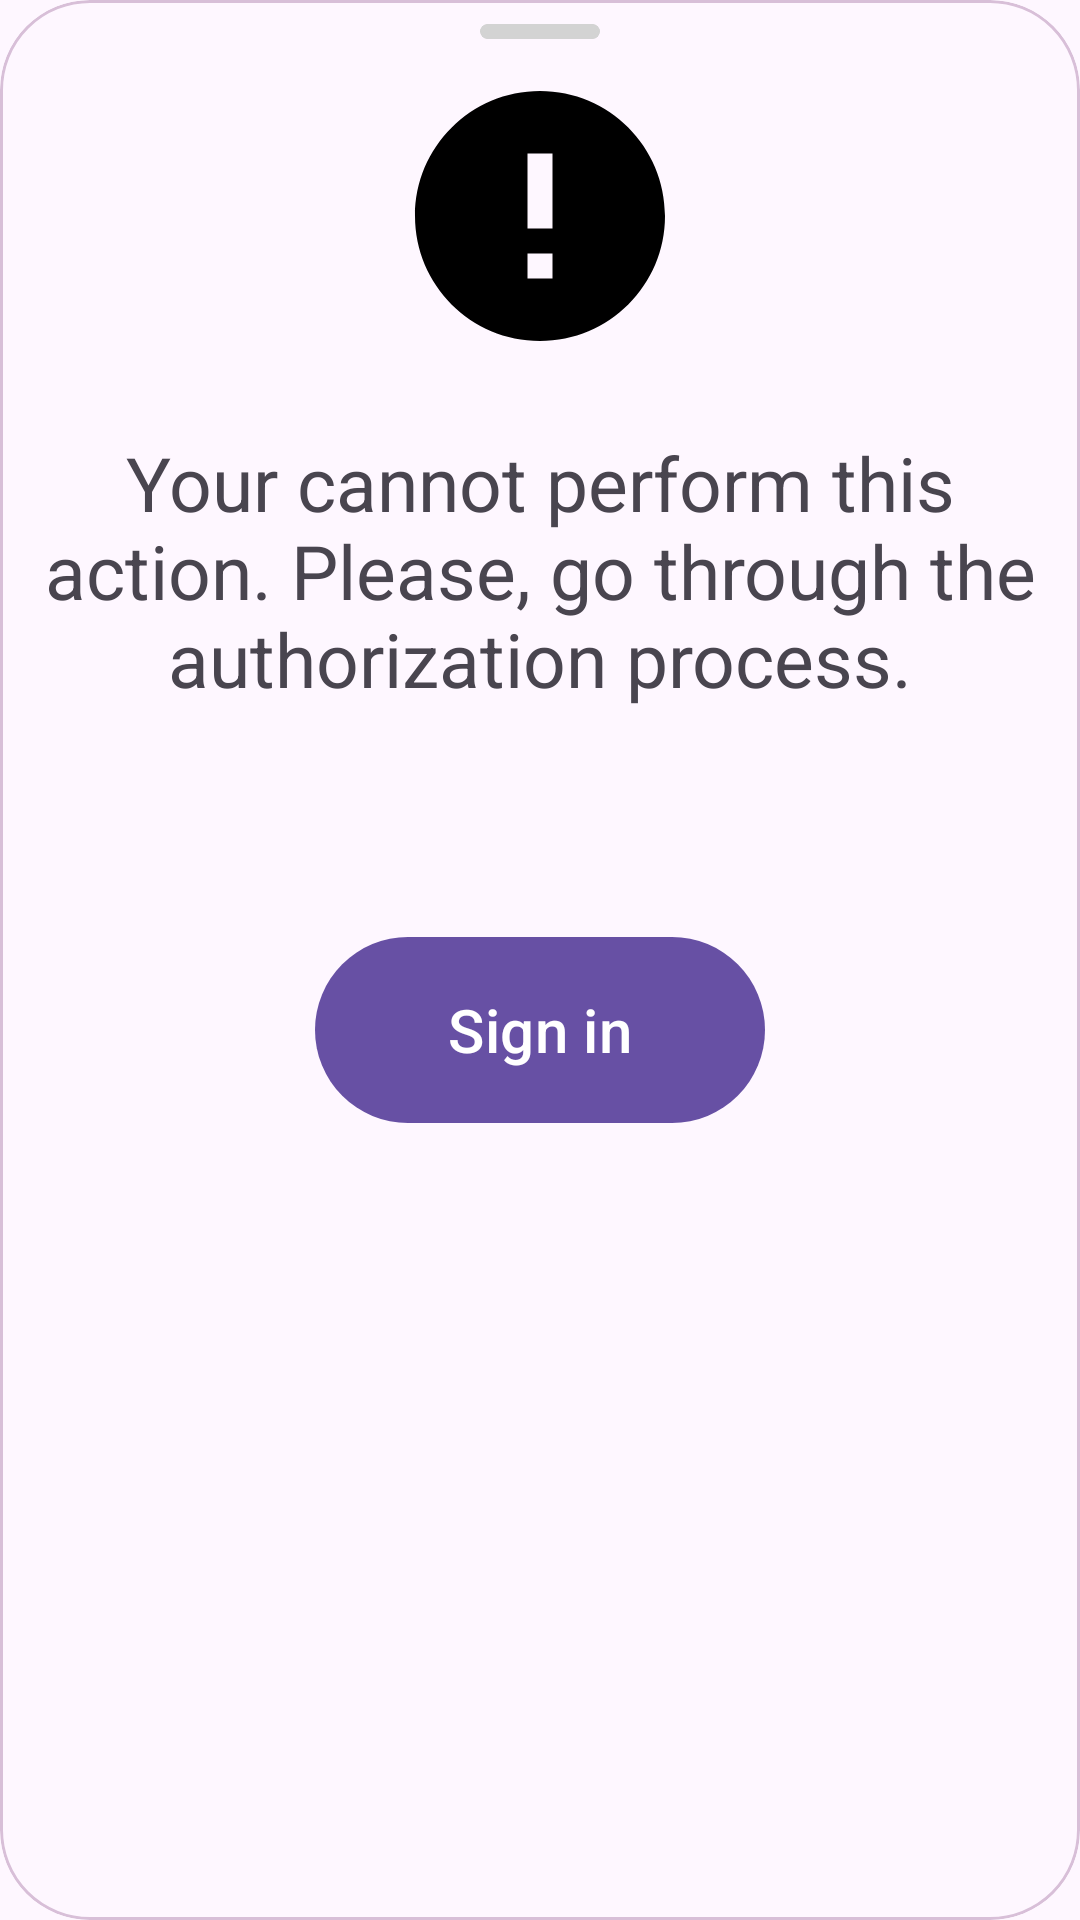

Screen size 1080px x 1920px. Icon name, then its center in pixels as (x=x, y=y):
error: (x=540, y=216)
